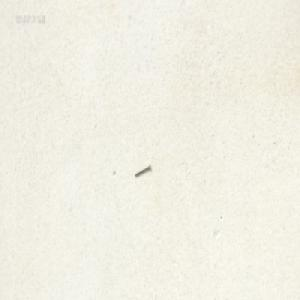Bolt: (133, 164, 150, 177)
